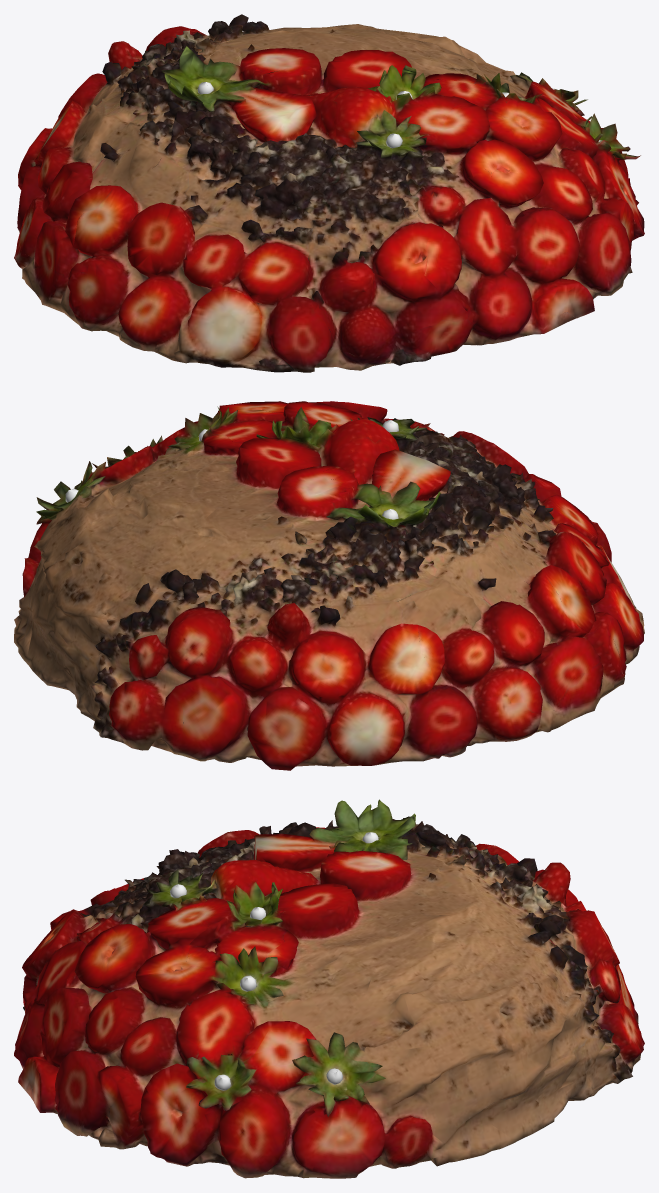
Rendered from strawberry_chocolate_cake.glb.
3 views of the same model, one above another, from view 1: azimuth 30°, elevation 25°; view 2: azimuth 150°, elevation 25°; view 3: azimuth 270°, elevation 25° (orthographic). The views are drawn at different scales.
Visible parts, largest first — view 1: strawberry_chocolate_cake; view 2: strawberry_chocolate_cake; view 3: strawberry_chocolate_cake.
Boxes of the visible parts, x1,y1,x2,y2 form: strawberry_chocolate_cake: (14,14,644,372); strawberry_chocolate_cake: (14,401,644,770); strawberry_chocolate_cake: (14,799,644,1178).
Bounding box in the file's own units: 0.2443 × 0.0792 × 0.2403.
1 material, 1 textured.
